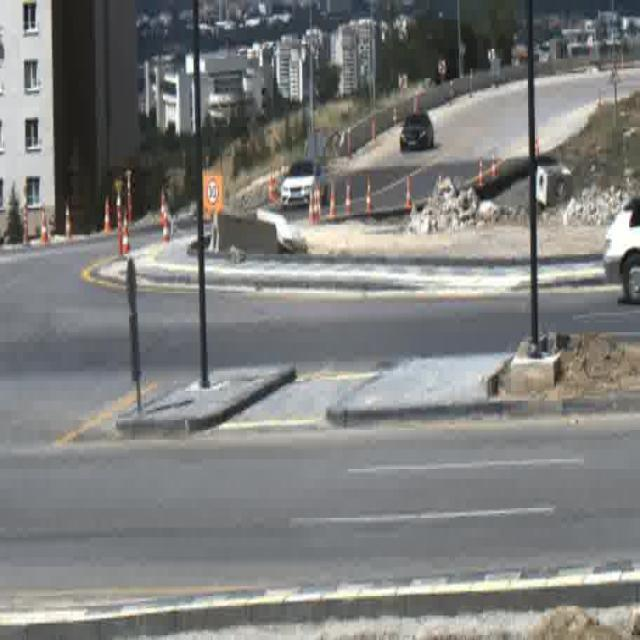Car: (603, 200, 640, 301), (281, 160, 327, 208), (399, 114, 433, 152)
